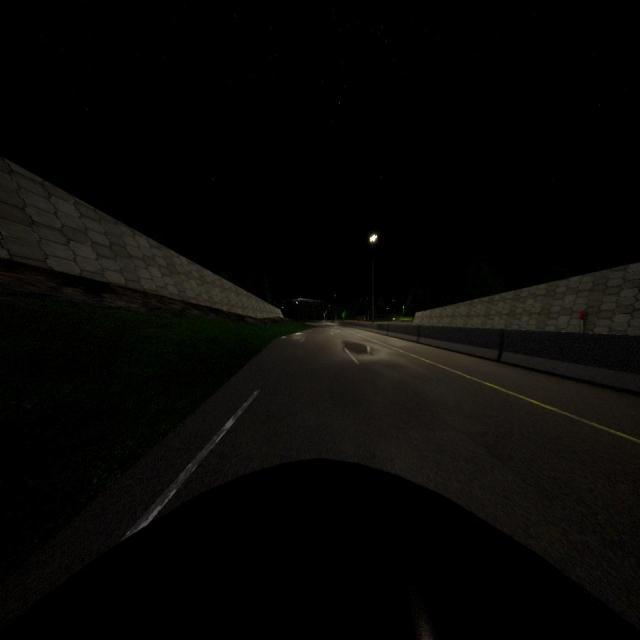Vehicle: (1, 461, 640, 638)
